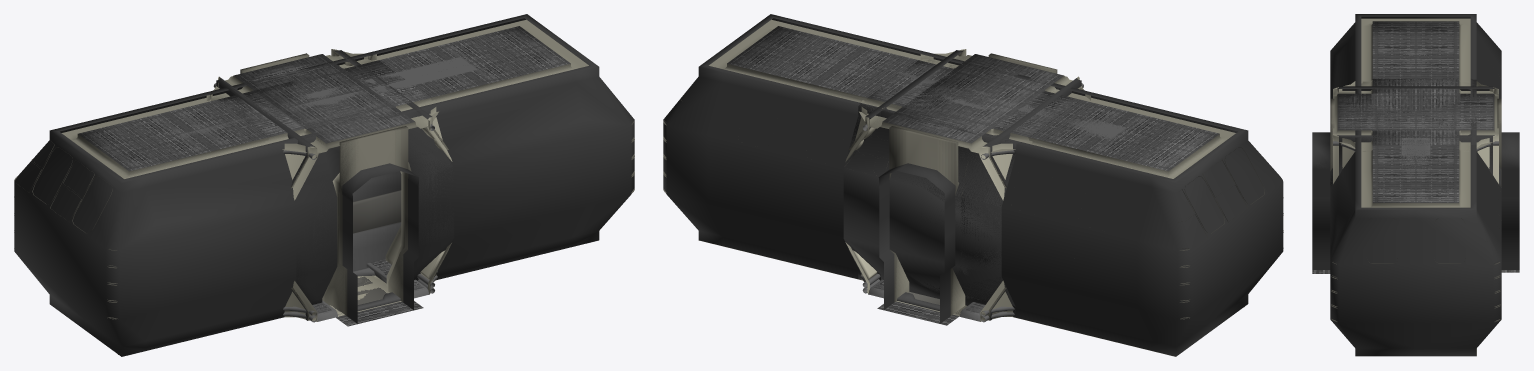
The model's file is HallwayPACK_GLB.glb.
3 views of the same model, side by side, from view 1: azimuth 30°, elevation 25°; view 2: azimuth 150°, elevation 25°; view 3: azimuth 270°, elevation 25° (orthographic). The views are drawn at different scales.
Visible parts, largest first — view 1: Room_Long_L, Room_Long_R, Hall_Junction_X, Hall_Light, Room_Small, Hall_Door_Large, Door_Big_R, Hall_NoLight_Window, Hall_Light_Window, Hall_NoLight__90Turn, Hall_Junction_T, Hall_End (+2 smaller); view 2: Room_Long_L, Room_Long_R, Hall_End, Hall_Junction_T, Hall_Door_End, Hall_Junction_X, Hall_NoLight__90Turn, Hall_Light, Hall_Light_Window, Hall_Door_Large, Hall_NoLight_Window; view 3: Room_Long_R, Room_Long_L, Hall_Junction_X, Hall_Door_End, Hall_Light, Hall_Light_Window, Hall_NoLight__90Turn, Hall_End, Hall_NoLight_Window, Hall_Junction_T, Hall_Door_Large, Room_Small.
Boxes of the visible parts, bbox=[...] form: Room_Long_L: bbox=[14, 57, 454, 356]; Room_Long_R: bbox=[235, 14, 634, 322]; Hall_Junction_X: bbox=[211, 49, 452, 322]; Hall_Light: bbox=[216, 49, 431, 320]; Room_Small: bbox=[300, 115, 418, 308]; Hall_Door_Large: bbox=[180, 50, 477, 309]; Door_Big_R: bbox=[352, 171, 401, 270]; Hall_NoLight_Window: bbox=[226, 50, 451, 318]; Hall_Light_Window: bbox=[221, 49, 442, 312]; Hall_NoLight__90Turn: bbox=[212, 59, 433, 298]; Hall_Junction_T: bbox=[206, 53, 429, 294]; Hall_End: bbox=[229, 60, 429, 321]; Room_Long_L: bbox=[847, 53, 1283, 356]; Room_Long_R: bbox=[663, 14, 1061, 300]; Hall_End: bbox=[843, 53, 1077, 298]; Hall_Junction_T: bbox=[844, 61, 1038, 317]; Hall_Door_End: bbox=[845, 103, 1013, 325]; Hall_Junction_X: bbox=[845, 49, 1090, 322]; Hall_NoLight__90Turn: bbox=[882, 50, 1085, 306]; Hall_Light: bbox=[849, 50, 1081, 321]; Hall_Light_Window: bbox=[845, 49, 1072, 320]; Hall_Door_Large: bbox=[844, 51, 1125, 319]; Hall_NoLight_Window: bbox=[865, 49, 1081, 320]; Room_Long_R: bbox=[1312, 88, 1501, 356]; Room_Long_L: bbox=[1312, 14, 1501, 273]; Hall_Junction_X: bbox=[1333, 79, 1498, 183]; Hall_Door_End: bbox=[1428, 89, 1519, 272]; Hall_Light: bbox=[1336, 86, 1498, 174]; Hall_Light_Window: bbox=[1337, 87, 1498, 153]; Hall_NoLight__90Turn: bbox=[1335, 79, 1468, 140]; Hall_End: bbox=[1333, 87, 1501, 187]; Hall_NoLight_Window: bbox=[1333, 88, 1498, 169]; Hall_Junction_T: bbox=[1373, 79, 1500, 186]; Hall_Door_Large: bbox=[1343, 52, 1492, 171]; Room_Small: bbox=[1312, 89, 1360, 268].
Size of the model in its own units: 24.87 by 7.82 by 10.
Materials: 3 (2 with a texture image).
